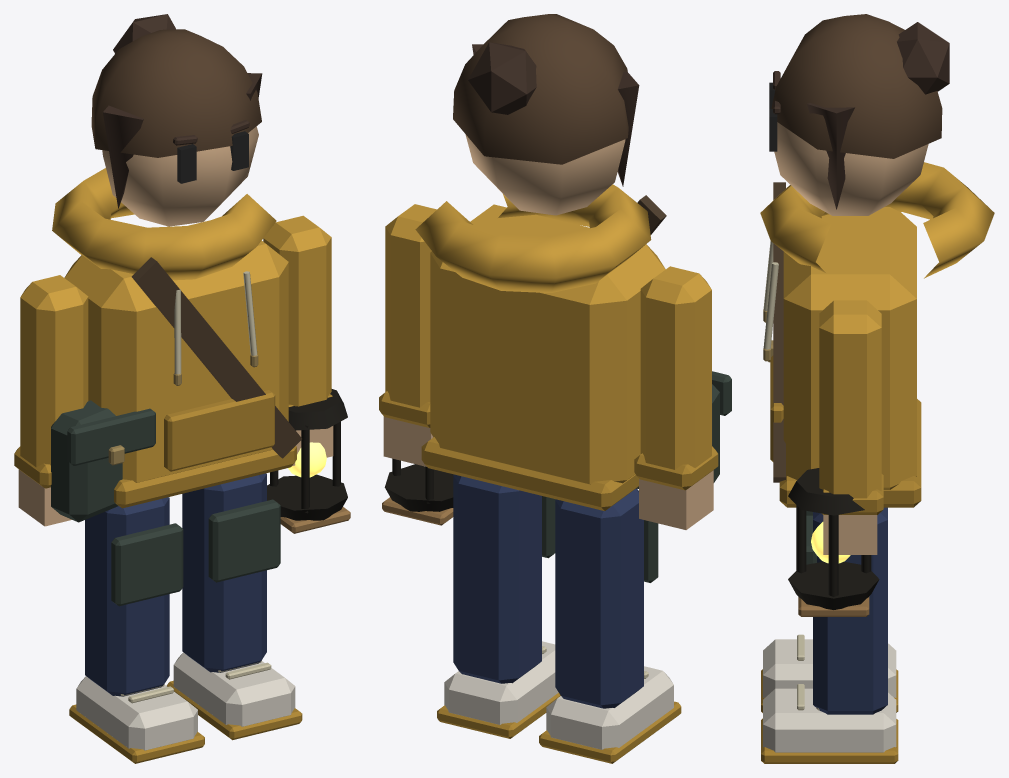
Rendered from survivor.glb.
3 renders of one model, left to right at view 1: azimuth 30°, elevation 25°; view 2: azimuth 150°, elevation 25°; view 3: azimuth 270°, elevation 25°, orthographic. The views are drawn at different scales.
Visible parts, largest first — view 1: body, head, legL, legR, Lowered_hood, armL, Cargo_pocket (×2), armR, Kangaroo_pocket, Hand_lantern, Ribbed_hem, Satchel_flap (+4 smaller); view 2: body, head, legL, legR, armL, Lowered_hood, armR, Ribbed_hem, Shoe_sole (×2), Hand_lantern, Sleeve_cuff (×2), Cargo_pocket (×2) (+2 smaller); view 3: head, body, legR, armR, Lowered_hood, Hand_lantern, legL, Shoe_sole, Ribbed_hem, Lantern_foot, Hood_drawstring, Sleeve_cuff (+1 smaller).
Part boxes in pixels (x1=…): body: x1=51, y1=220, x2=301, y2=522; head: x1=91, y1=14, x2=262, y2=226; legL: x1=76, y1=497, x2=197, y2=750; legR: x1=173, y1=473, x2=295, y2=726; Lowered_hood: x1=52, y1=168, x2=276, y2=280; armL: x1=18, y1=275, x2=88, y2=526; Cargo_pocket (×2): x1=111, y1=499, x2=280, y2=606; armR: x1=263, y1=215, x2=333, y2=465; Kangaroo_pocket: x1=164, y1=390, x2=275, y2=471; Hand_lantern: x1=267, y1=389, x2=347, y2=520; Ribbed_hem: x1=114, y1=446, x2=296, y2=508; Satchel_flap: x1=67, y1=408, x2=155, y2=465; body: x1=430, y1=195, x2=719, y2=488; head: x1=453, y1=14, x2=639, y2=215; legL: x1=546, y1=488, x2=673, y2=749; legR: x1=444, y1=474, x2=558, y2=724; armL: x1=639, y1=266, x2=713, y2=529; Lowered_hood: x1=415, y1=184, x2=651, y2=292; armR: x1=383, y1=204, x2=436, y2=466; Ribbed_hem: x1=421, y1=437, x2=638, y2=510; Shoe_sole (×2): x1=437, y1=692, x2=681, y2=763; Hand_lantern: x1=384, y1=458, x2=453, y2=511; Sleeve_cuff (×2): x1=379, y1=391, x2=718, y2=490; Cargo_pocket (×2): x1=542, y1=496, x2=658, y2=582; head: x1=769, y1=14, x2=949, y2=215; body: x1=773, y1=182, x2=916, y2=489; legR: x1=763, y1=507, x2=896, y2=752; armR: x1=819, y1=300, x2=881, y2=554; Lowered_hood: x1=760, y1=162, x2=994, y2=278; Hand_lantern: x1=788, y1=468, x2=879, y2=609; legL: x1=763, y1=639, x2=896, y2=697; Shoe_sole: x1=761, y1=718, x2=898, y2=763; Ribbed_hem: x1=779, y1=399, x2=921, y2=507; Lantern_foot: x1=798, y1=596, x2=869, y2=616; Hood_drawstring: x1=763, y1=262, x2=778, y2=349; Sleeve_cuff: x1=821, y1=474, x2=883, y2=514.
Bounding box in the file's own units: 0.8885 × 1.86 × 0.5631.
